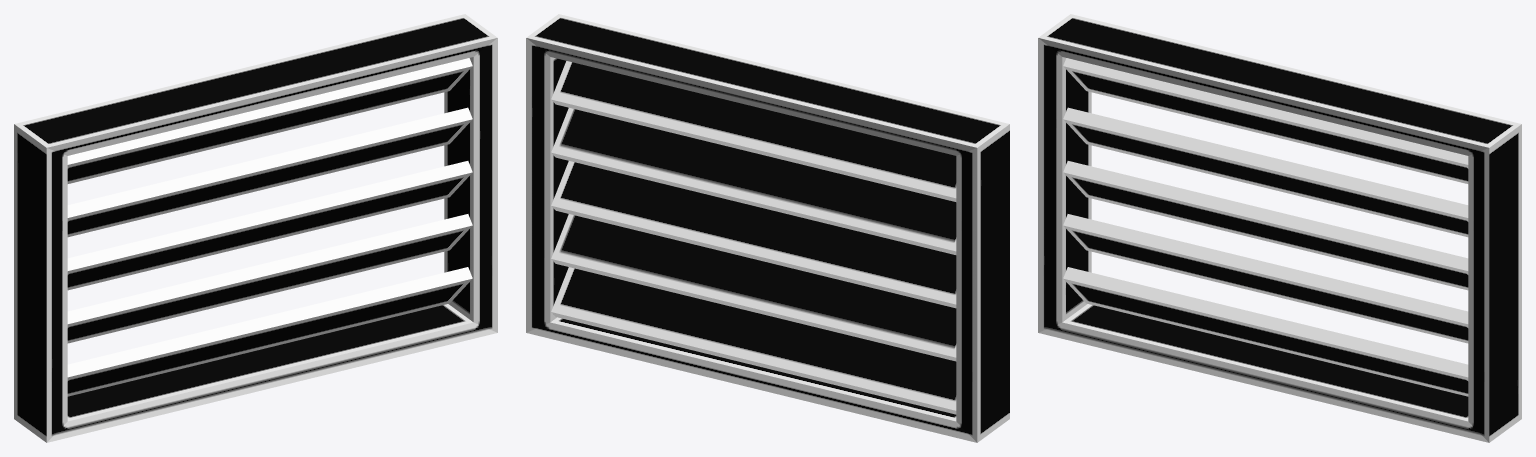
The model's file is duct-grill.fbx.
3 views of the same model, side by side, from view 1: azimuth 30°, elevation 25°; view 2: azimuth 150°, elevation 25°; view 3: azimuth 330°, elevation 25° (orthographic).
Parts seen in each view (by area): view 1: Grill; view 2: Grill; view 3: Grill.
Boxes of the visible parts, x1,y1,x2,y2 form: Grill: [14, 14, 497, 442]; Grill: [526, 14, 1009, 442]; Grill: [1038, 14, 1521, 442].
Bounding box in the file's own units: 80 × 50 × 10.
